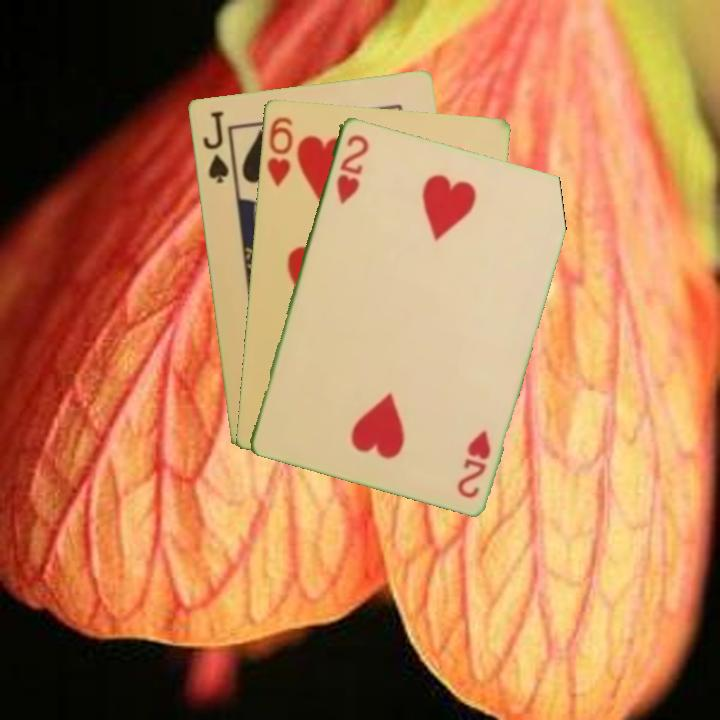2h: (332, 130, 372, 207), (453, 426, 494, 501)
6h: (263, 113, 295, 189)
Js: (199, 107, 231, 186)
